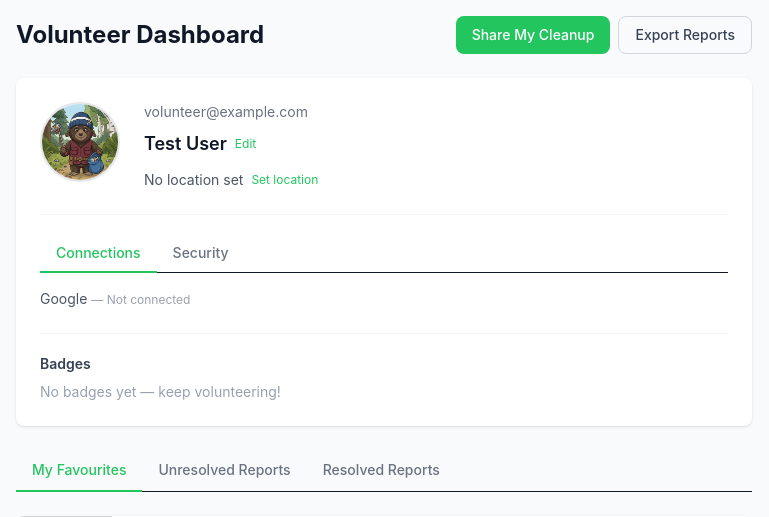
Test: VolunteerDashboard › saves updated name via API
Expected: the text "Test User" is shown, x1=144 y1=130 x2=227 y2=158
Click the button "Edit".
click(246, 144)  # box x1=235 y1=136 x2=256 y2=152
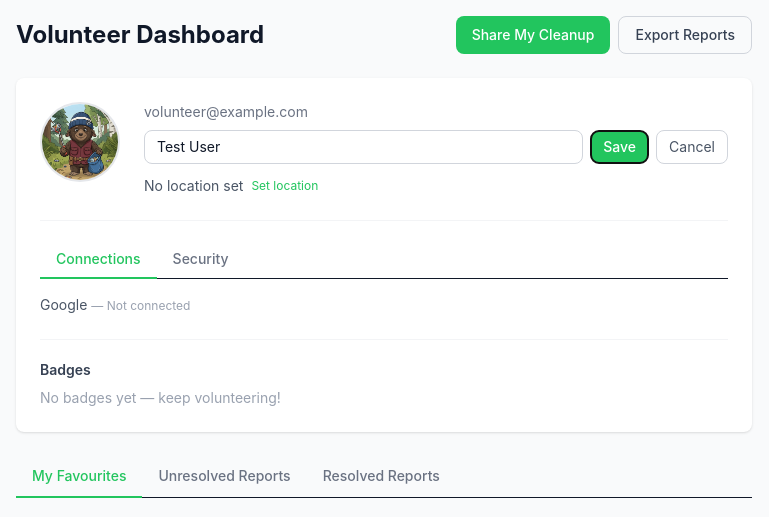
Replace the text in the field with placeholder "Your full name" with "New Name" at x=364, y=147, box x1=144 y1=130 x2=583 y2=164
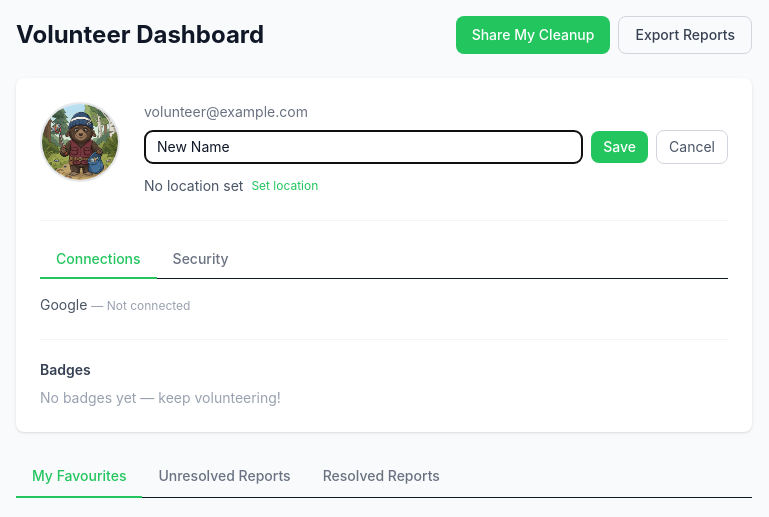
Click the button "Save".
click(620, 147)  # box x1=591 y1=131 x2=648 y2=163
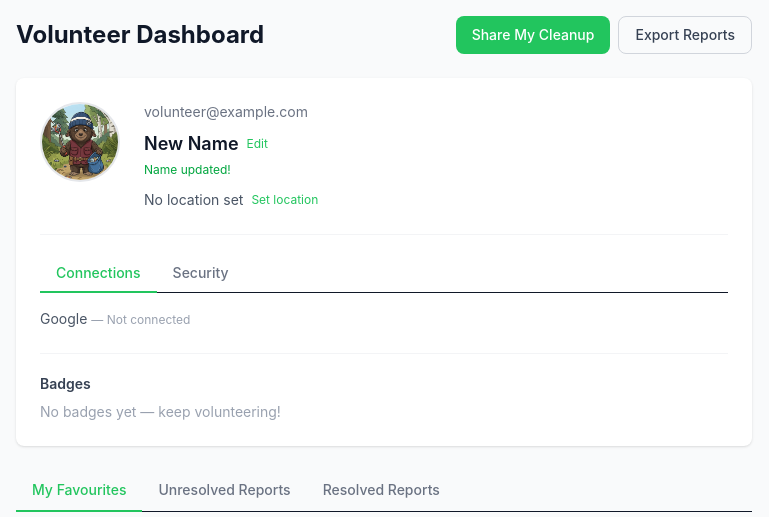
Result: the text "Name updated!" is shown at x1=144 y1=162 x2=231 y2=177
